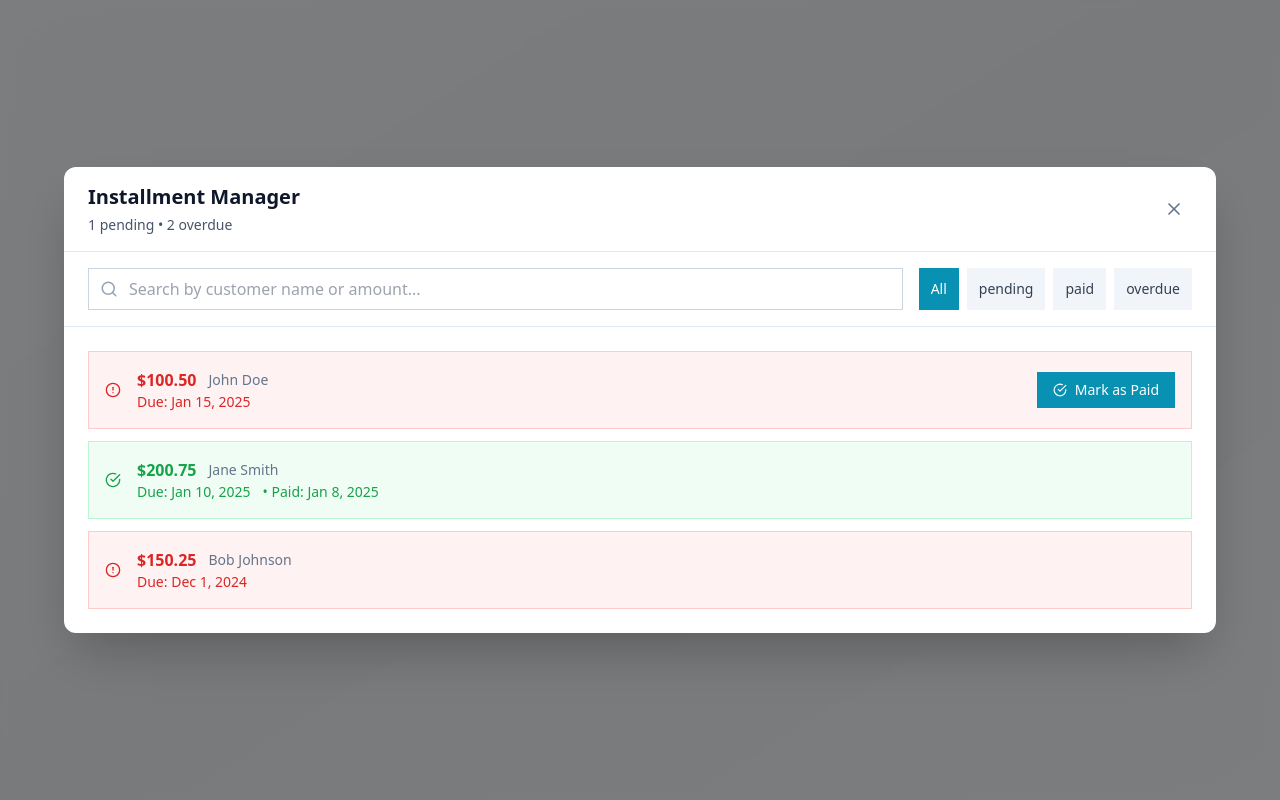
Test: InstallmentManager › Mark as Paid › shows loading state while marking as paid
Click the button "Mark as Paid": (1106, 390) [1037,372,1175,408]
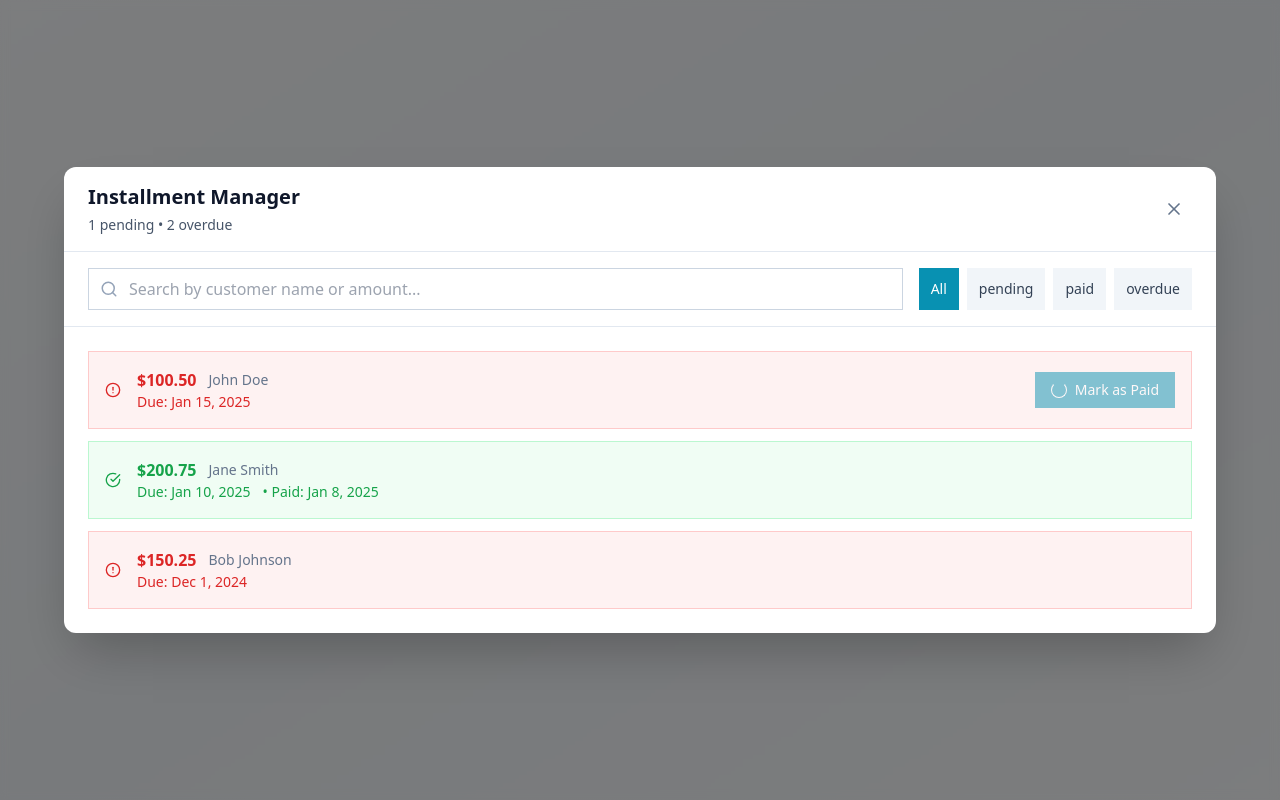
expect the button "Mark as Paid" is disabled: met, box [1035,372,1175,408]
